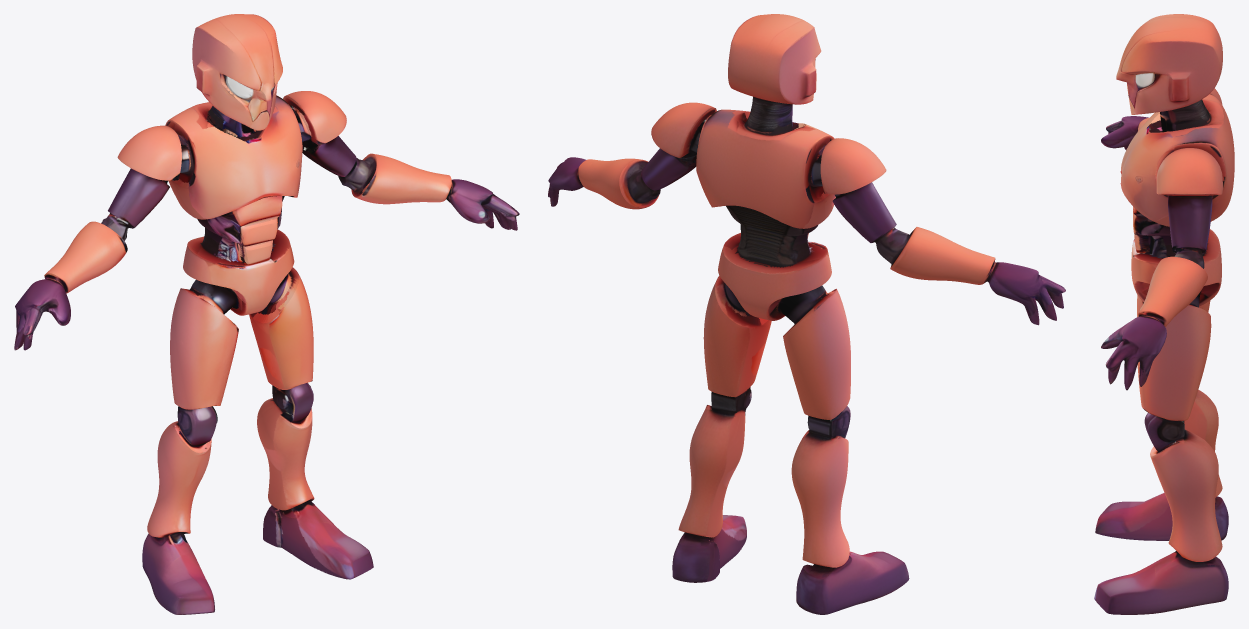
Rendered from base_basic_shaded.glb.
The picture shows the model from 3 angles, left to right: view 1: azimuth 30°, elevation 25°; view 2: azimuth 150°, elevation 25°; view 3: azimuth 270°, elevation 25°; orthographic projection. The views are drawn at different scales.
Visible parts, largest first — view 1: model; view 2: model; view 3: model.
Boxes of the visible parts, left/top/right/bottom form: model: left=14, top=14, right=519, bottom=614; model: left=548, top=14, right=1065, bottom=614; model: left=1094, top=14, right=1234, bottom=614.
Size of the model in its own units: 1.8 by 1.9 by 0.4439.
Materials: 1 (1 with a texture image).
